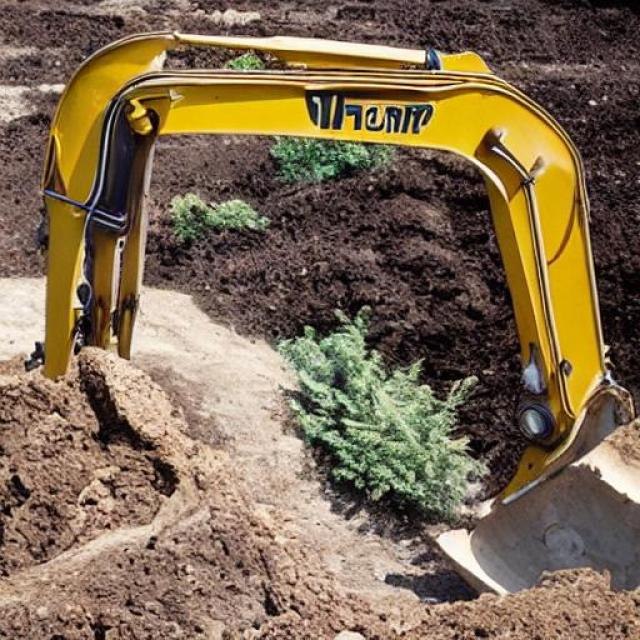excavator: (124, 255, 350, 395)
